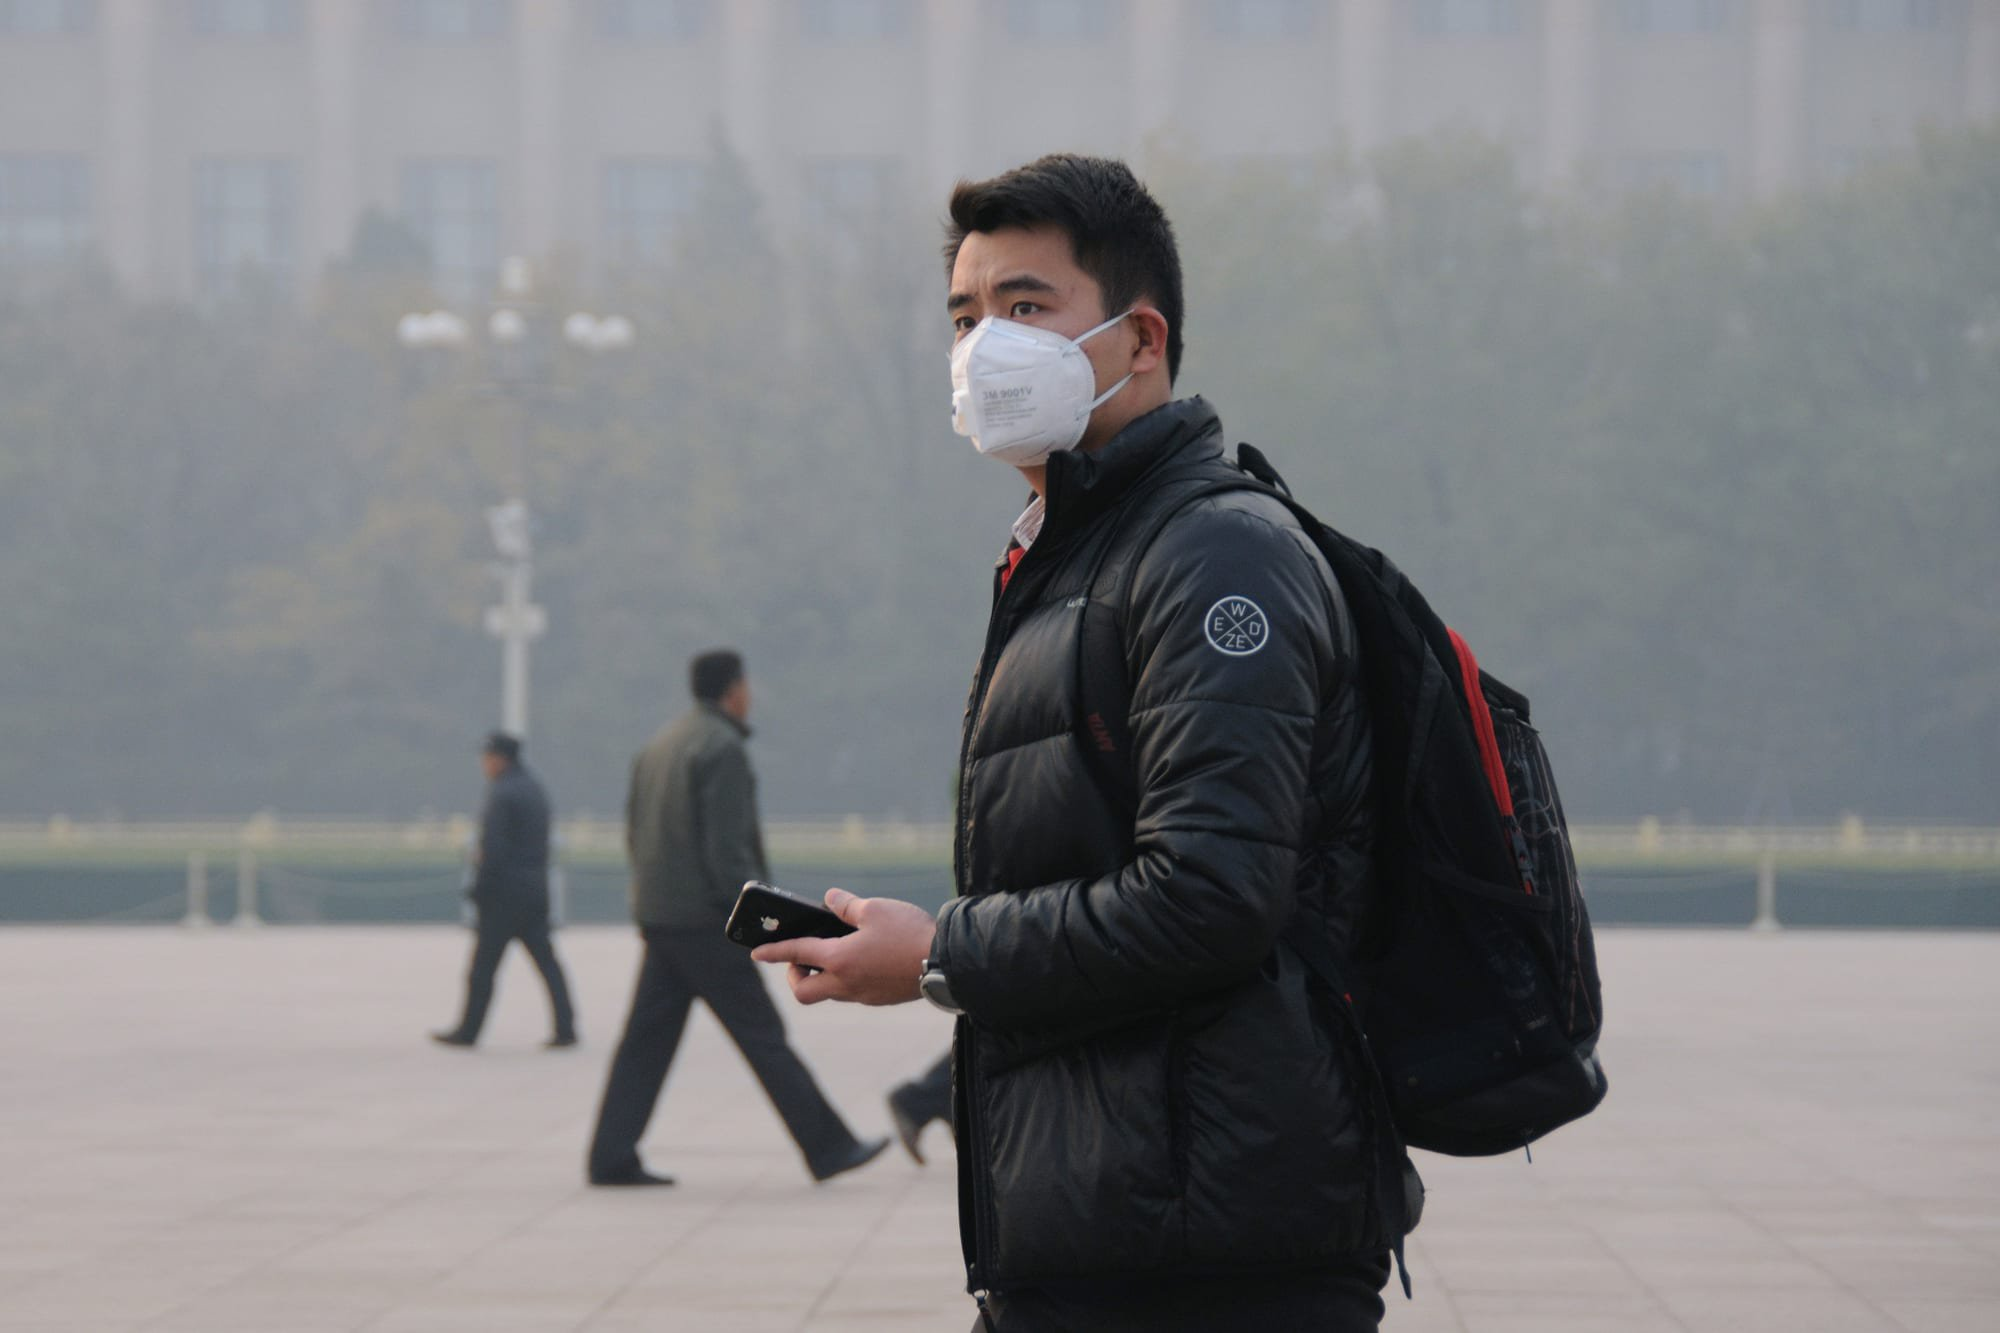mask: (915, 148, 1182, 484)
